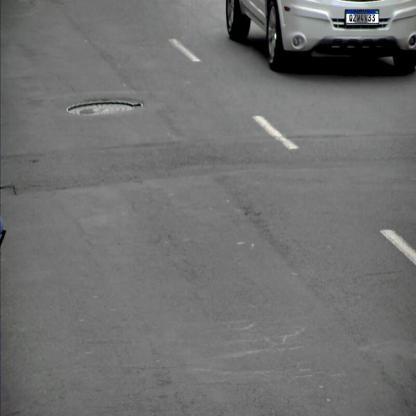PlacaM: (346, 10, 379, 23)
